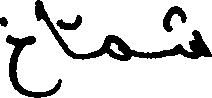X: (37, 0, 71, 97), (0, 12, 32, 97), (178, 2, 211, 63), (104, 30, 129, 65)
